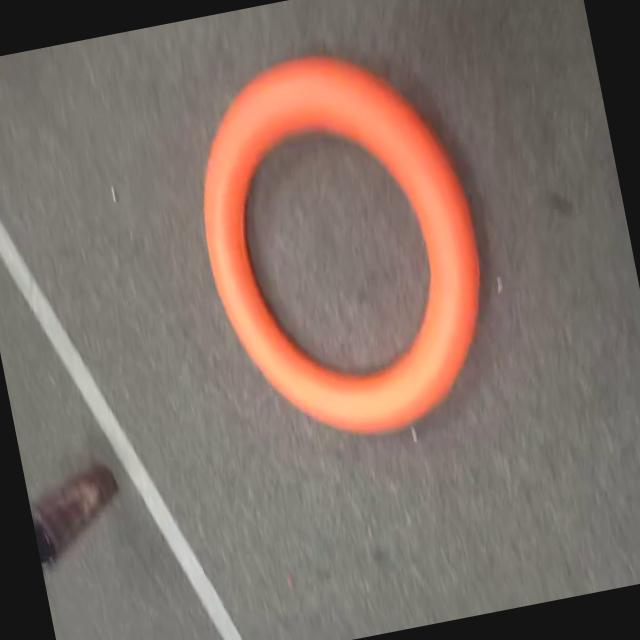note: (163, 23, 525, 470)
